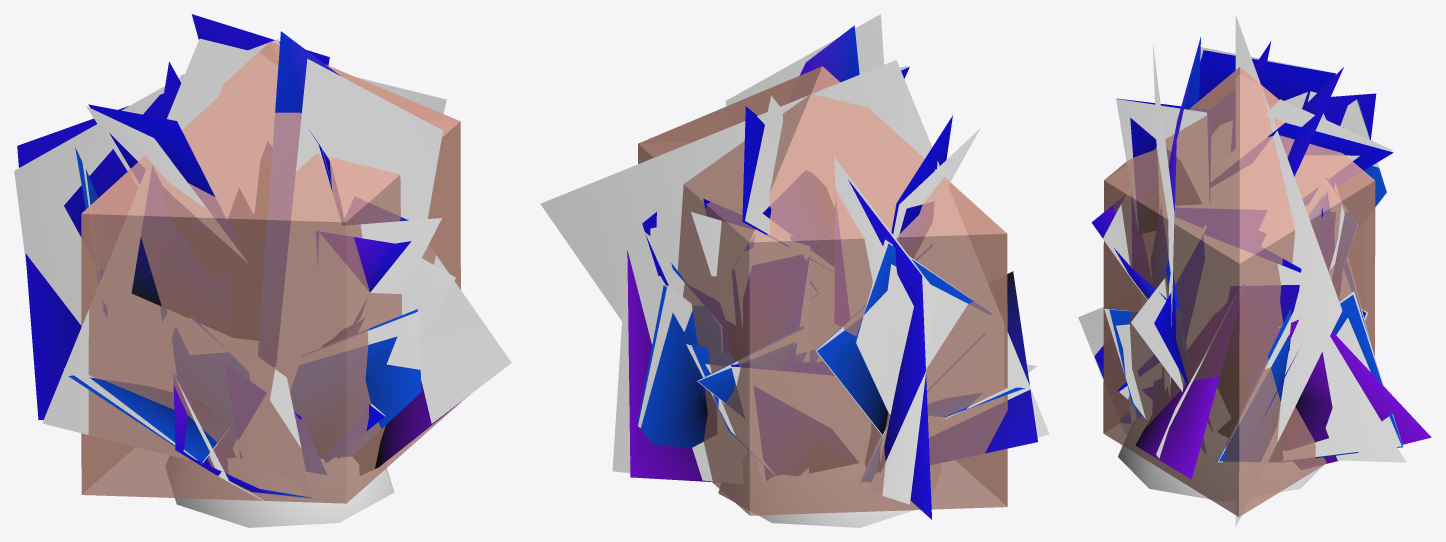
The model's file is Juniper_bush_large_01.dae.
The picture shows the model from 3 angles, left to right: view 1: azimuth 30°, elevation 25°; view 2: azimuth 150°, elevation 25°; view 3: azimuth 270°, elevation 25°; orthographic projection. The views are drawn at different scales.
Visible parts, largest first — view 1: Colmesh-1, Juniper_large_01_a100, Juniper_large_01_a200; view 2: Colmesh-1, Juniper_large_01_a100, Juniper_large_01_a200; view 3: Colmesh-1, Juniper_large_01_a200, Juniper_large_01_a100.
Part boxes in pixels (x1,y1,x2,y2): Colmesh-1: [81, 41, 460, 527]; Juniper_large_01_a100: [14, 38, 511, 518]; Juniper_large_01_a200: [17, 14, 465, 497]; Colmesh-1: [638, 66, 1007, 527]; Juniper_large_01_a100: [540, 14, 1049, 504]; Juniper_large_01_a200: [627, 25, 1037, 519]; Colmesh-1: [1103, 67, 1375, 516]; Juniper_large_01_a200: [1091, 37, 1431, 479]; Juniper_large_01_a100: [1078, 15, 1406, 526].
Size of the model in its own units: 2.55 by 1.87 by 2.65.
